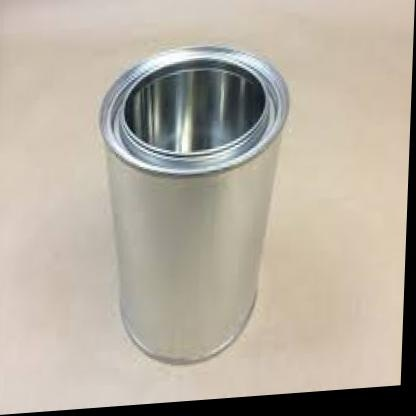trash: (100, 46, 287, 361)
